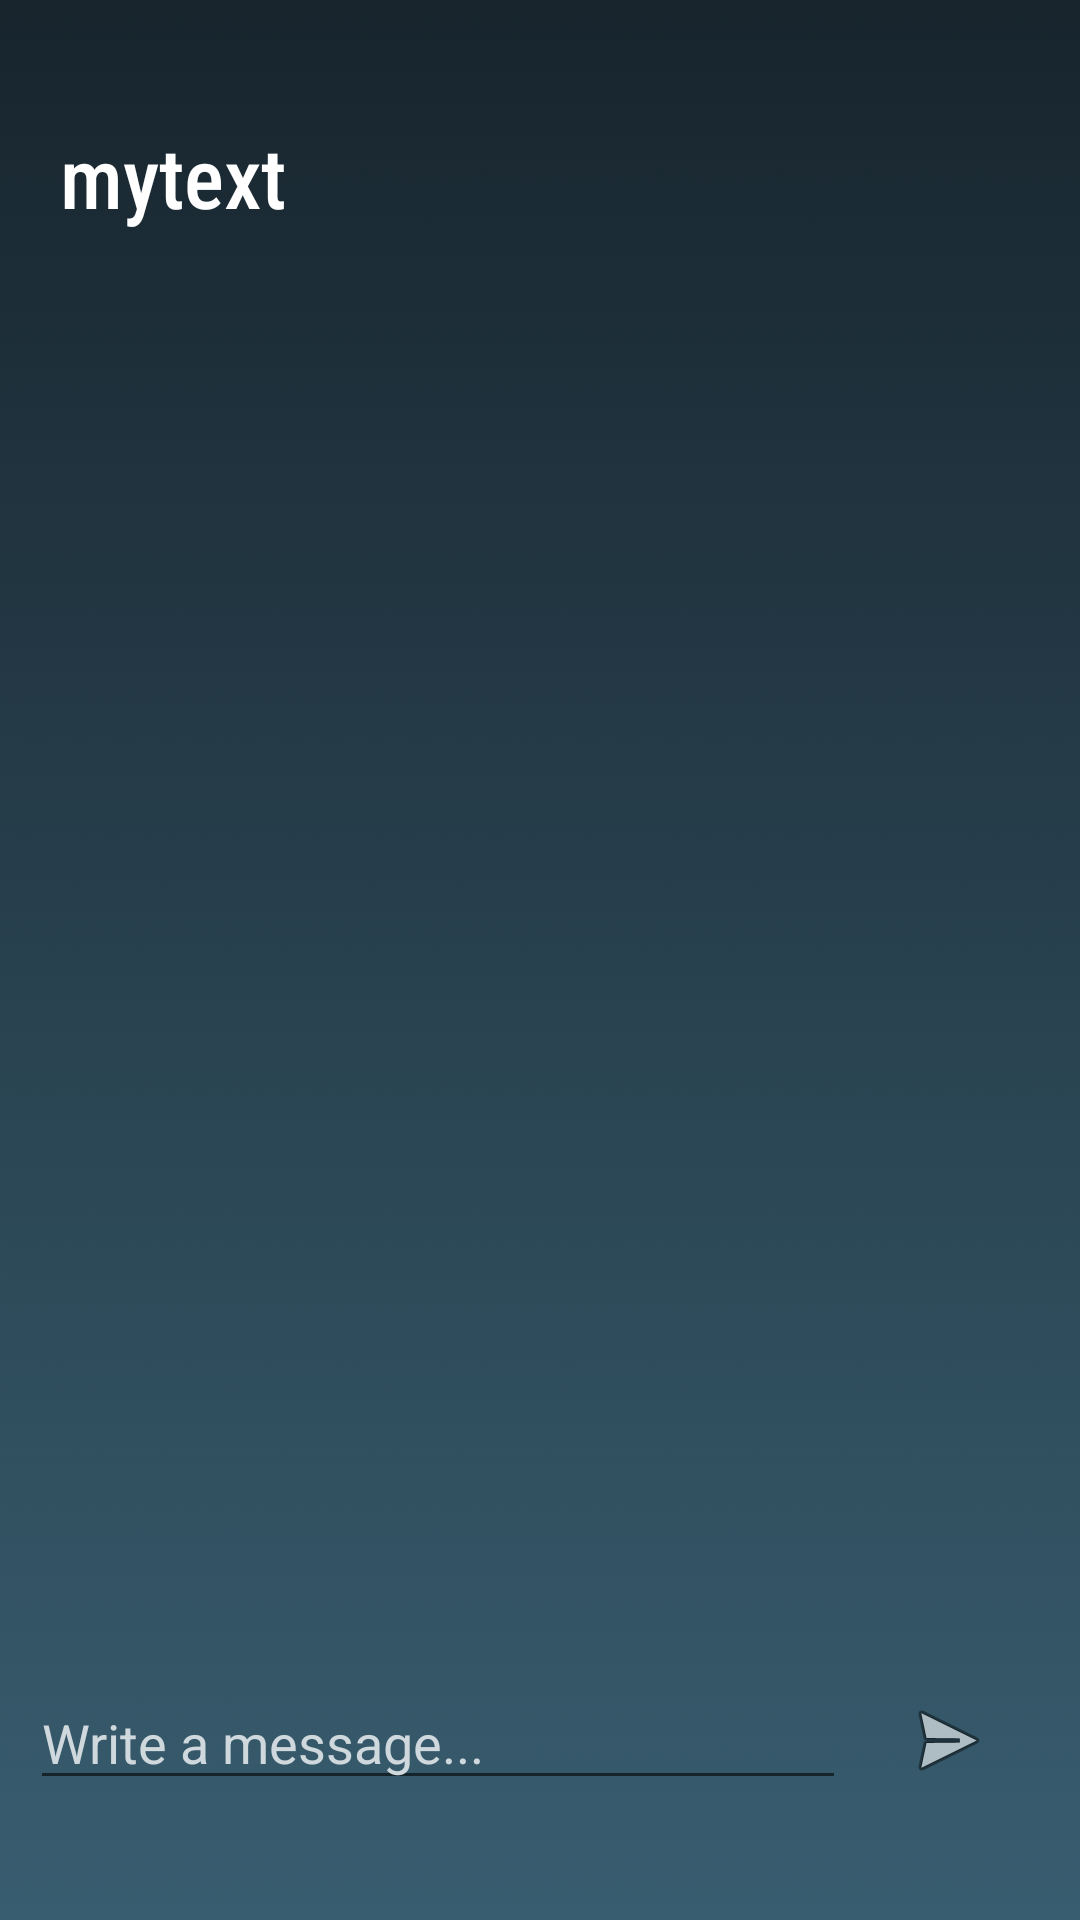

Icons on this 1080*1920 Android screen, each with its box as [x1, y1, x2, y2]:
send: [918, 1711, 979, 1770]
